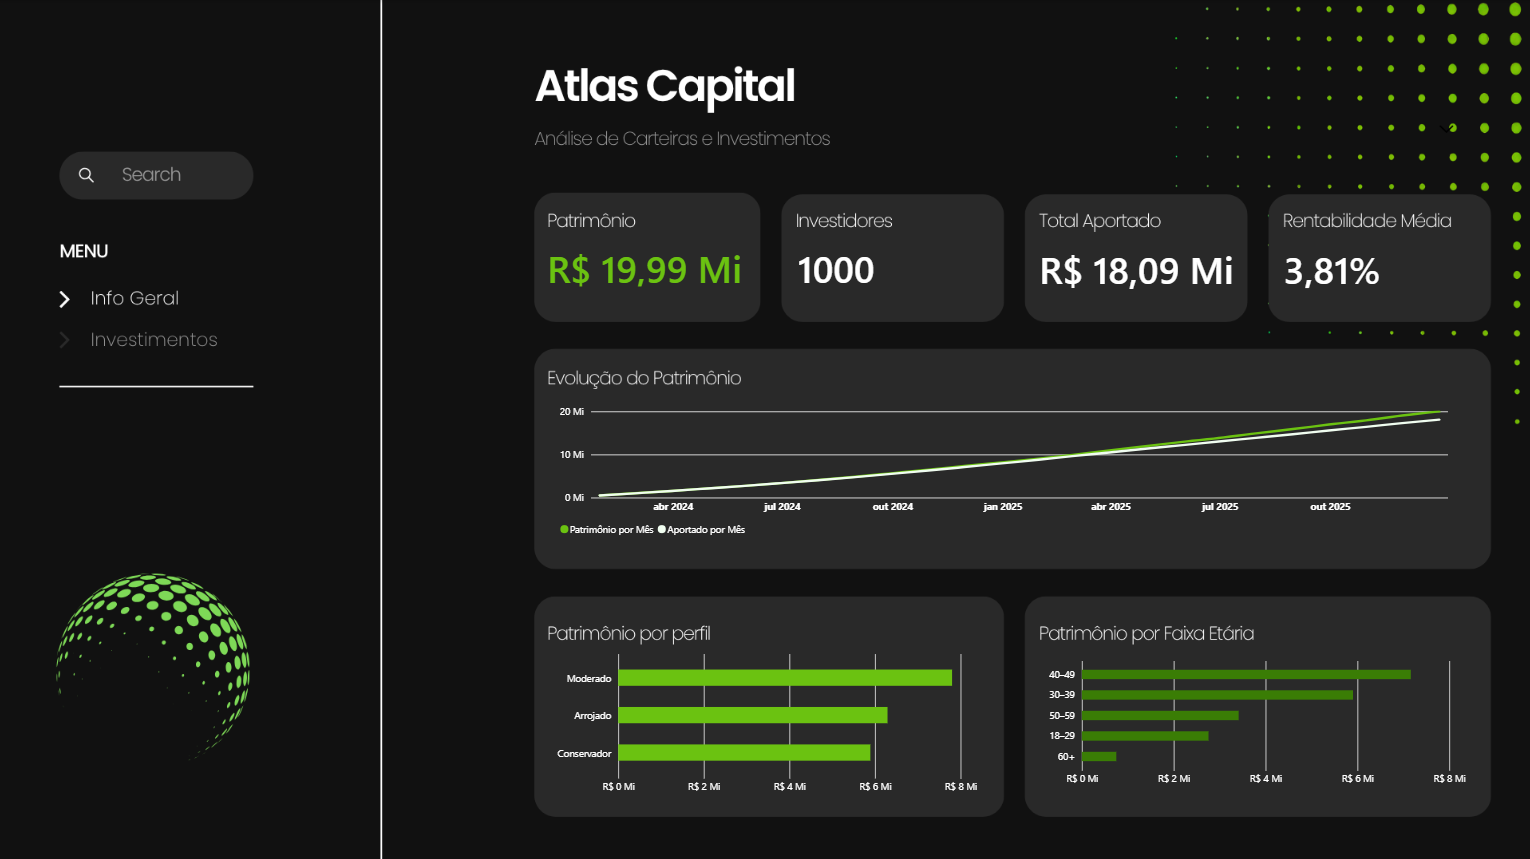

This screenshot's page, from the dashboard's own definition file:
{"tool":"powerbi","page":{"name":"InfoGeral","canvas":[1920,1080],"ordinal":0},"visuals":[{"type":"card","fields":{"Values":["atlas_capital portfolio_history.Patrimônio Total"]},"box":[657.5,297.5,302.1,77.8],"z":0},{"type":"card","fields":{"Values":["atlas_capital investors.Quantidade de Investidores"]},"box":[980,290,138.3,93.3],"z":1000},{"type":"card","fields":{"Values":["atlas_capital portfolio_history.Total Aportado"]},"box":[1274.7,290.6,302.1,93.8],"z":2000},{"type":"card","fields":{"Values":["atlas_capital portfolio_history.Rentabilidade Média"]},"box":[1588.3,296.7,163.3,80],"z":3000},{"type":"lineChart","fields":{"Category":["atlas_capital portfolio_history.reference_date"],"Y":["atlas_capital portfolio_history.Patrimônio por Mês","atlas_capital portfolio_history.Aportado por Mês"]},"box":[686,492,1160,200],"z":4000},{"type":"clusteredBarChart","fields":{"Category":["atlas_capital investors.investor_profile"],"Y":["atlas_capital portfolio_history.Patrimônio Total"]},"box":[678.3,798,563.9,216.8],"z":5000},{"type":"clusteredBarChart","fields":{"Category":["atlas_capital investors.Faixa Etária"],"Y":["atlas_capital portfolio_history.Patrimônio Total"]},"box":[1296.8,807.3,557.3,198.2],"z":6000},{"type":"actionButton","box":[70.9,402.8,217.4,41.2],"z":6001}]}

Visuals, with their boxes on the page's 1920x1080 design canvas (x1, y1, x2, y2). These are canvas units, not pixel positions in the 1530x859 screenshot, which may show the page scaled, cropped or inside an application window:
card - atlas_capital portfolio_history.Patrimônio Total: (658,298,960,375)
card - atlas_capital investors.Quantidade de Investidores: (980,290,1118,383)
card - atlas_capital portfolio_history.Total Aportado: (1275,291,1577,384)
card - atlas_capital portfolio_history.Rentabilidade Média: (1588,297,1752,377)
lineChart - atlas_capital portfolio_history.reference_date x atlas_capital portfolio_history.Patrimônio por Mês: (686,492,1846,692)
clusteredBarChart - atlas_capital investors.investor_profile x atlas_capital portfolio_history.Patrimônio Total: (678,798,1242,1015)
clusteredBarChart - atlas_capital investors.Faixa Etária x atlas_capital portfolio_history.Patrimônio Total: (1297,807,1854,1006)
actionButton: (71,403,288,444)
